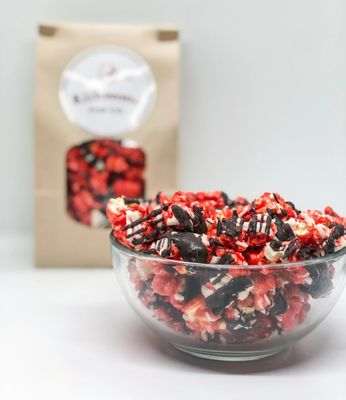sushi: (108, 189, 343, 361)
